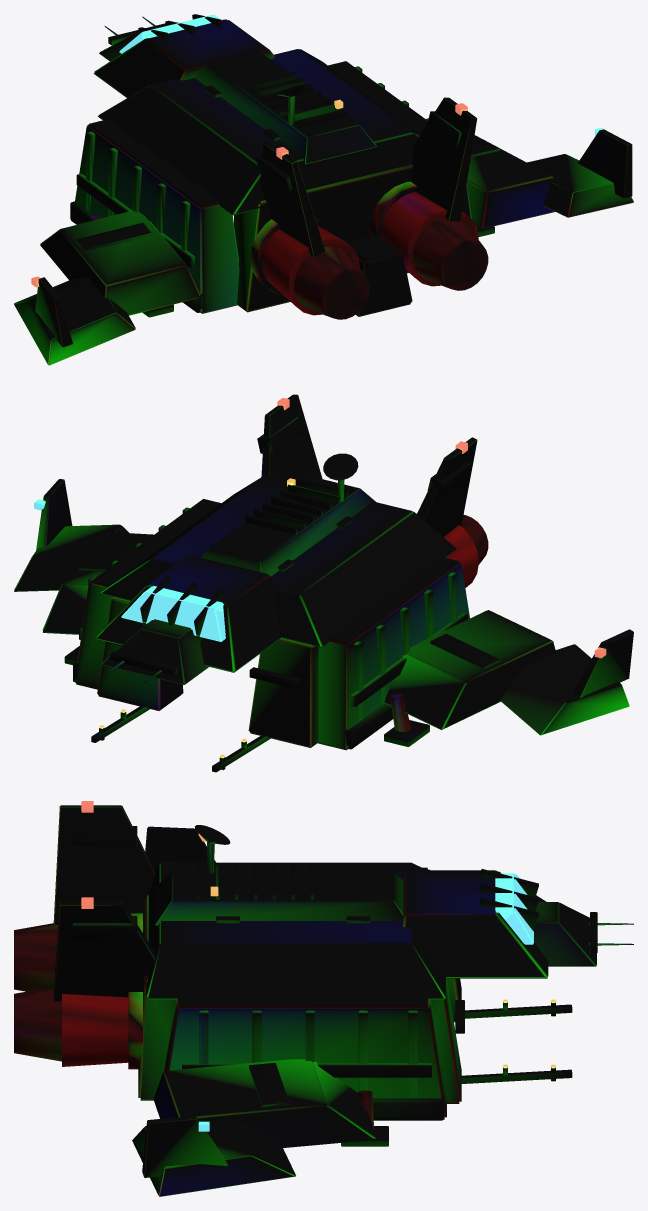
Rendered from hero_crashed_ship.glb.
3 renders of one model, top to bottom at view 1: azimuth 30°, elevation 25°; view 2: azimuth 150°, elevation 25°; view 3: azimuth 270°, elevation 25°, orthographic. The views are drawn at different scales.
Visible parts, largest first — view 1: HeroCrashedShip; view 2: HeroCrashedShip; view 3: HeroCrashedShip.
Part boxes in pixels (left/top/right/bottom): HeroCrashedShip: left=14, top=14, right=633, bottom=365; HeroCrashedShip: left=14, top=394, right=633, bottom=772; HeroCrashedShip: left=14, top=801, right=633, bottom=1196.
Size of the model in its own units: 43.46 by 14.23 by 36.2.
